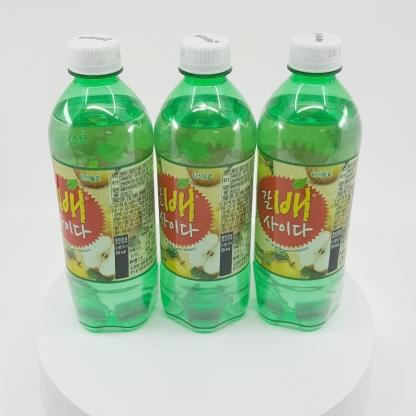-------500ML: (47, 33, 158, 331), (253, 32, 363, 330), (154, 32, 257, 331)
